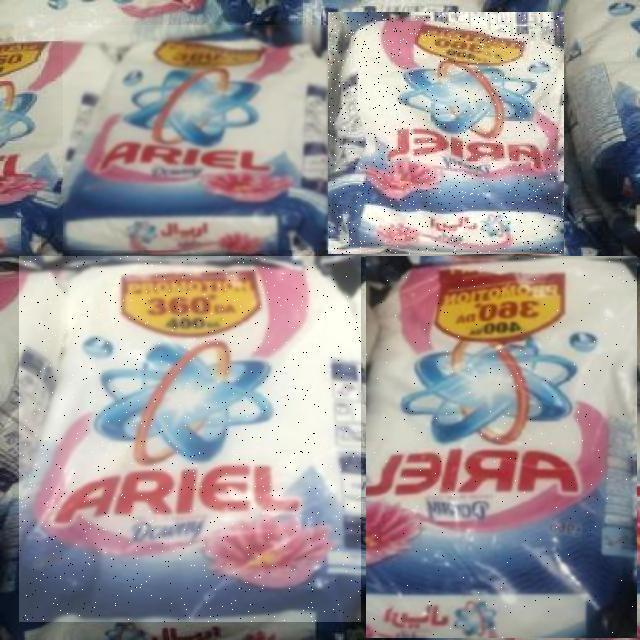Detergent: (19, 256, 361, 622), (366, 256, 637, 638), (63, 25, 332, 250), (328, 12, 564, 254)
